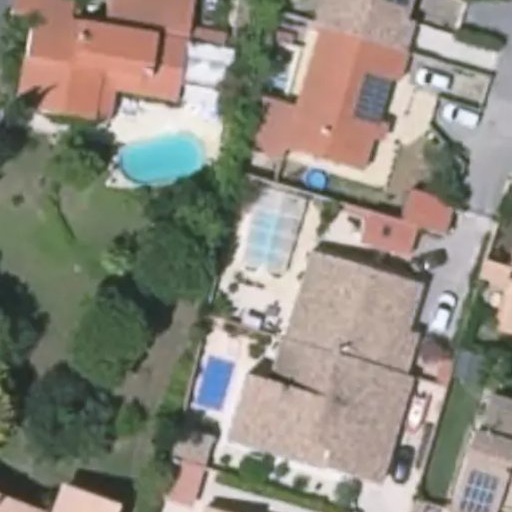pool: (115, 132, 205, 180), (248, 194, 294, 277), (192, 357, 235, 414)
